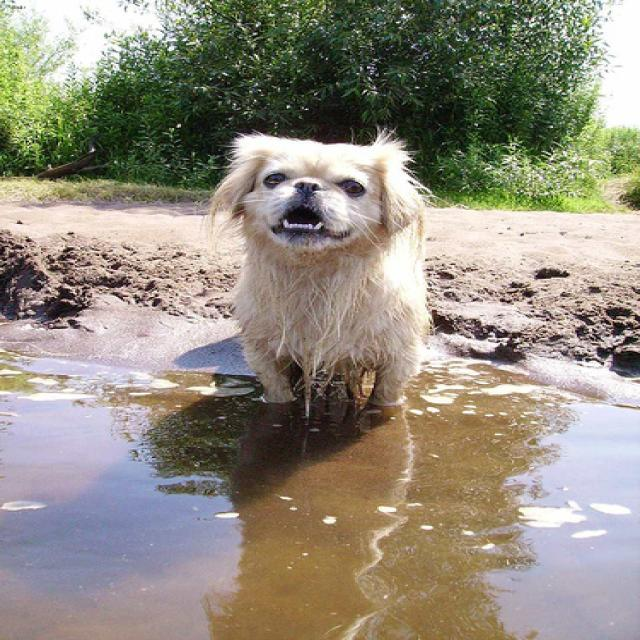dog-japanese_chin: (189, 122, 442, 416)
